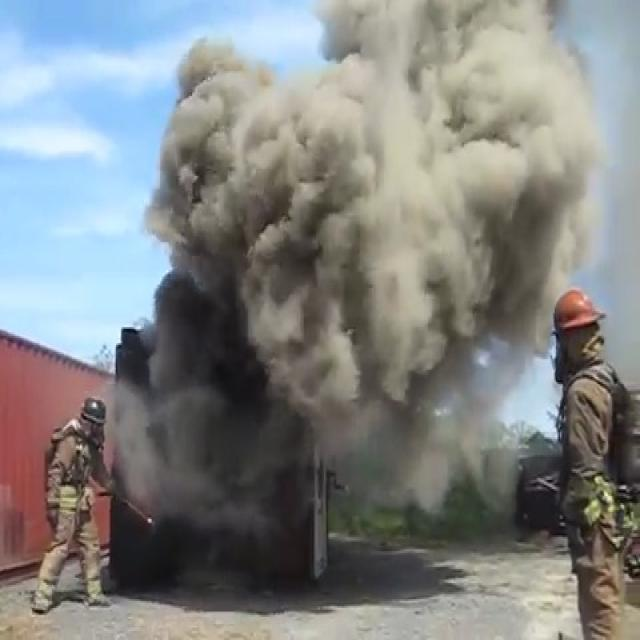Smoke: (160, 19, 596, 454)
